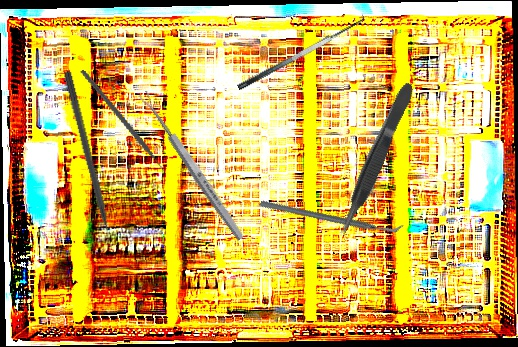Chopper: (258, 150, 405, 281), (55, 69, 189, 182)
Pusher: (61, 70, 117, 256)
Spatula Surgical: (231, 8, 369, 92)
Surgical Spoon: (137, 89, 247, 243)
Tissue Forceps: (331, 79, 421, 240)
